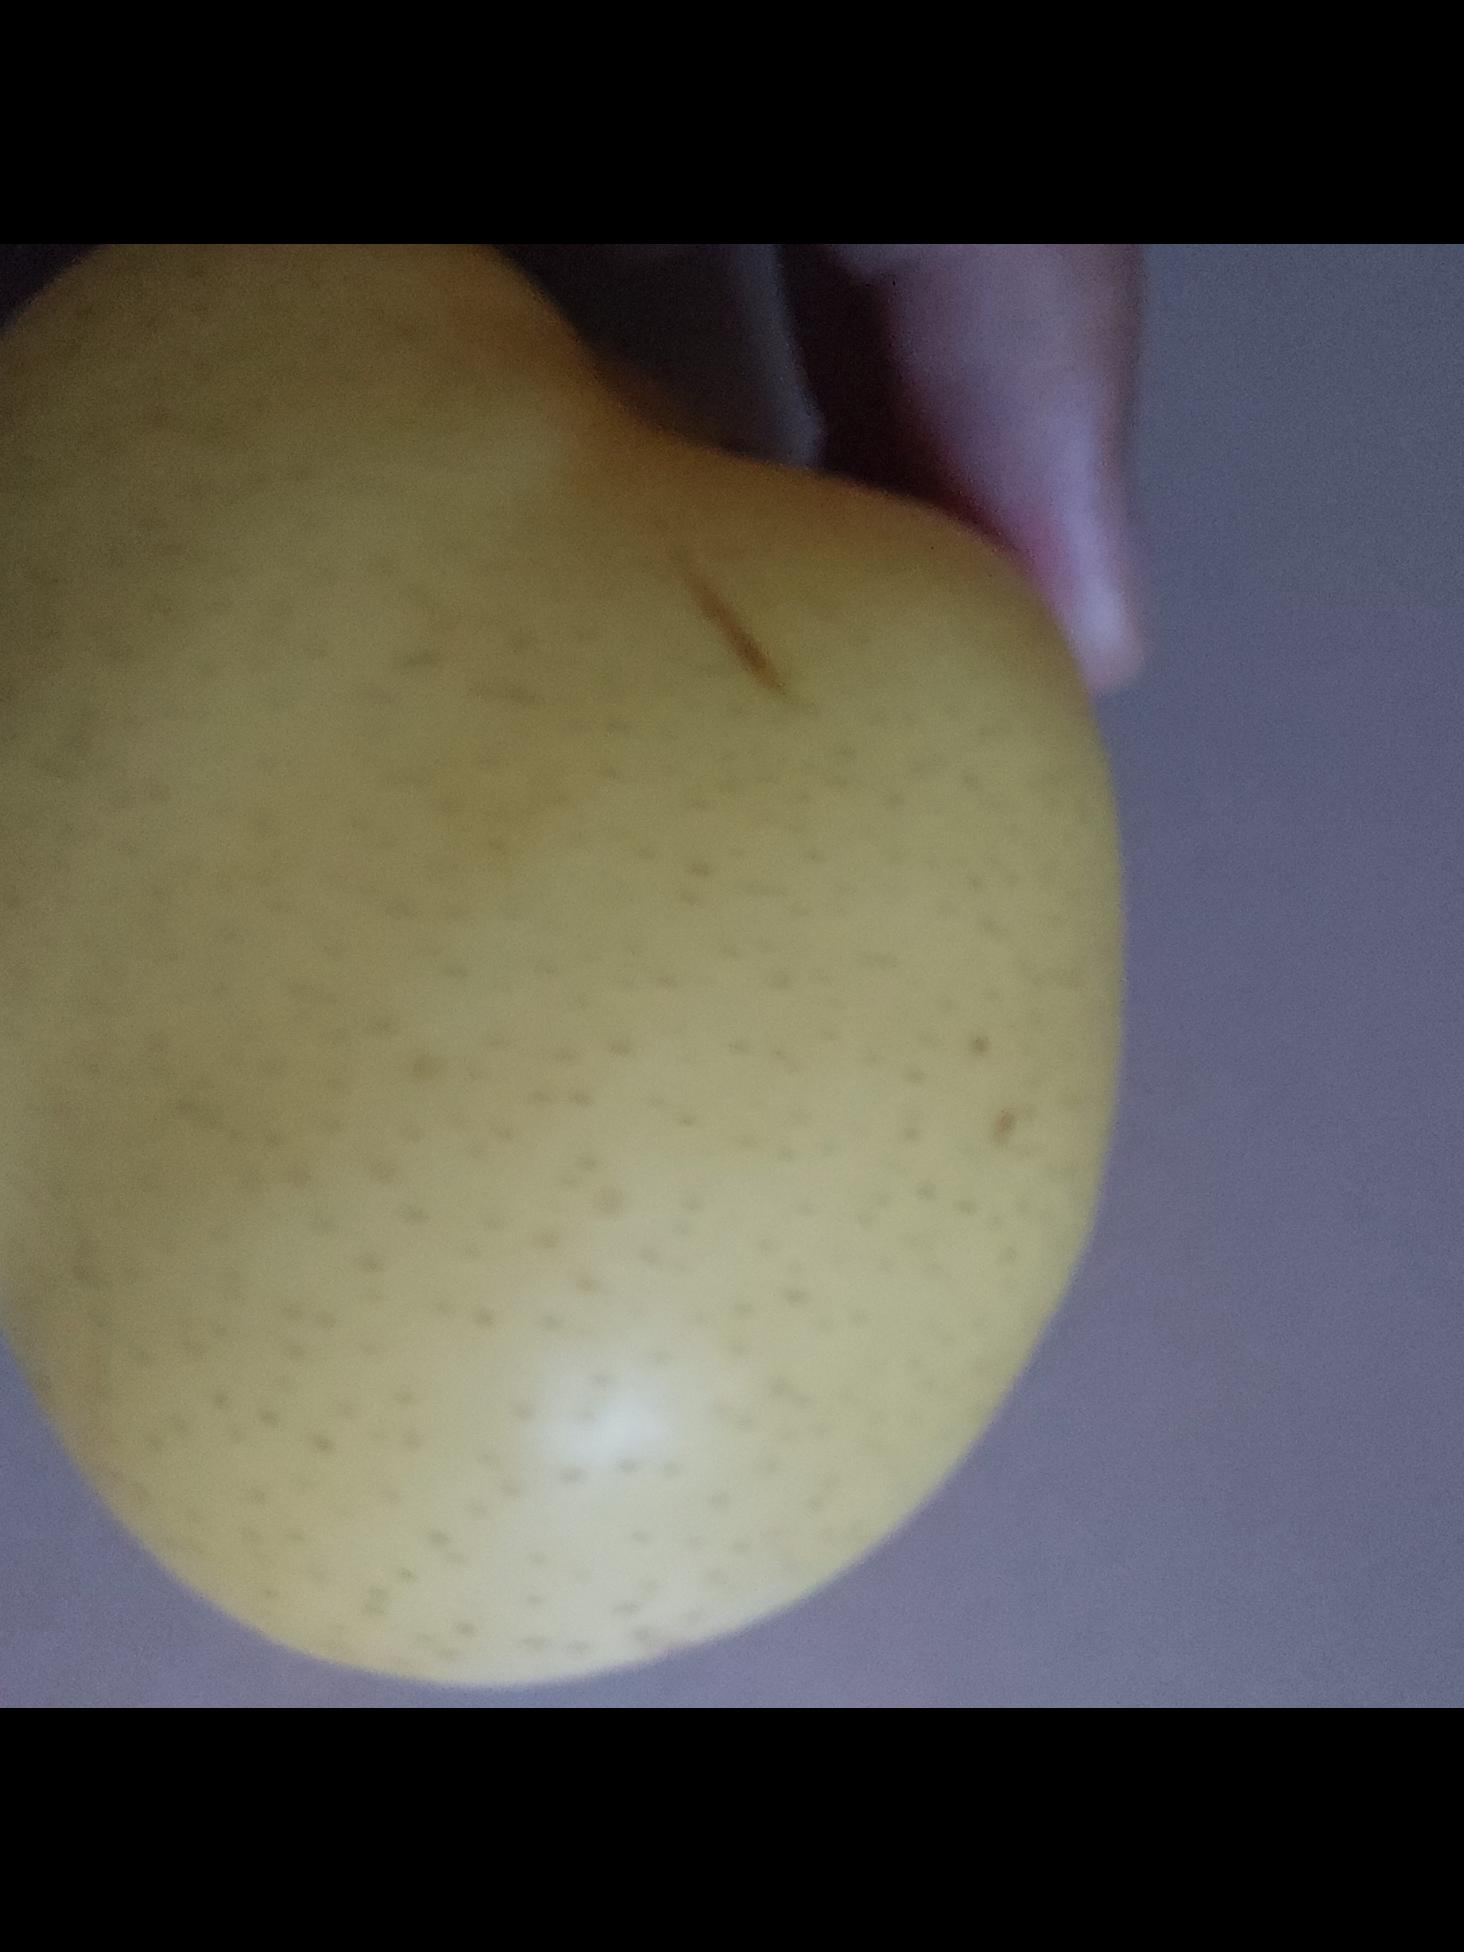Good Pear: (0, 244, 1108, 1673)
